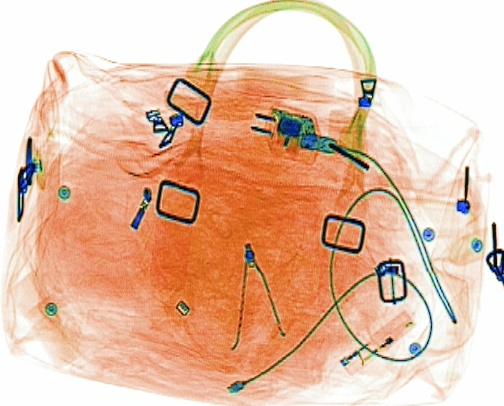lighter: (337, 307, 416, 377)
